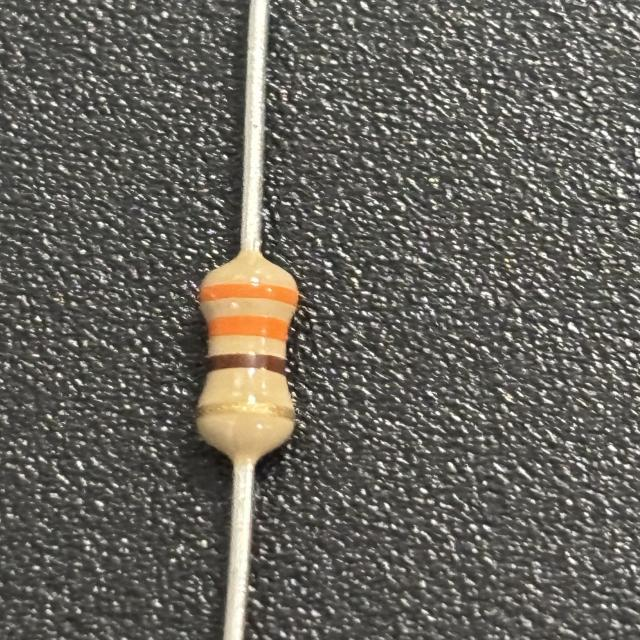resistor: (188, 264, 308, 446)
